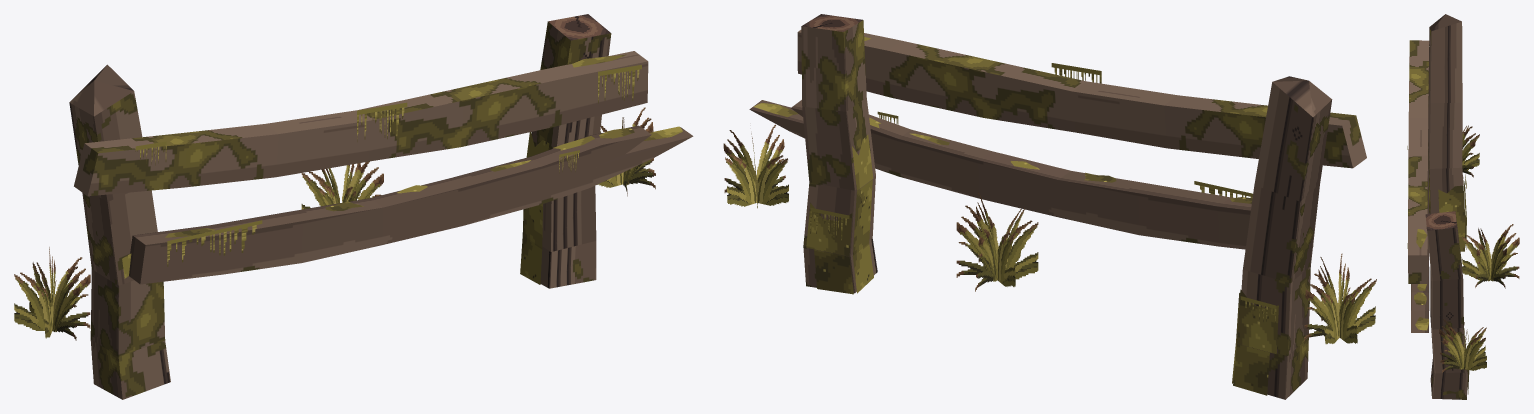
File: SM_SW19_WaterFenceRails.fbx
The picture shows the model from 3 angles, left to right: view 1: azimuth 30°, elevation 25°; view 2: azimuth 150°, elevation 25°; view 3: azimuth 270°, elevation 25°; orthographic projection. The views are drawn at different scales.
Visible parts, largest first — view 1: SW19a_Planks, SW19a_Plants, SW19a_Moss, SW19a_Props; view 2: SW19a_Planks, SW19a_Plants, SW19a_Moss, SW19a_Props; view 3: SW19a_Planks, SW19a_Plants, SW19a_Moss, SW19a_Props.
Part boxes in pixels (bbox=[...]): SW19a_Planks: bbox=[69, 21, 693, 399]; SW19a_Plants: bbox=[14, 65, 655, 340]; SW19a_Moss: bbox=[122, 54, 682, 284]; SW19a_Props: bbox=[548, 14, 610, 40]; SW19a_Planks: bbox=[749, 20, 1366, 399]; SW19a_Plants: bbox=[723, 63, 1376, 344]; SW19a_Moss: bbox=[753, 37, 1278, 395]; SW19a_Props: bbox=[801, 14, 862, 31]; SW19a_Planks: bbox=[1408, 14, 1468, 399]; SW19a_Plants: bbox=[1407, 125, 1519, 372]; SW19a_Moss: bbox=[1414, 177, 1469, 395]; SW19a_Props: bbox=[1425, 211, 1456, 230].
Bounding box in the file's own units: 3.43 × 1.62 × 0.7523.
